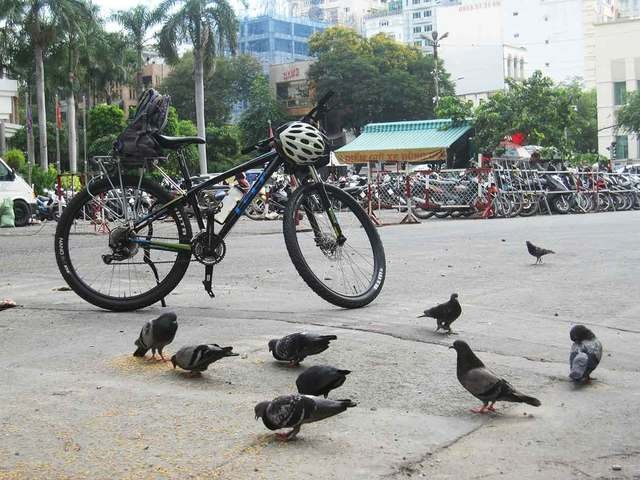Pigeon: (448, 338, 543, 416), (253, 392, 362, 441), (171, 342, 242, 380), (267, 332, 340, 368), (131, 310, 178, 363), (569, 324, 604, 387), (296, 365, 356, 399), (416, 292, 463, 334), (525, 237, 559, 266)
